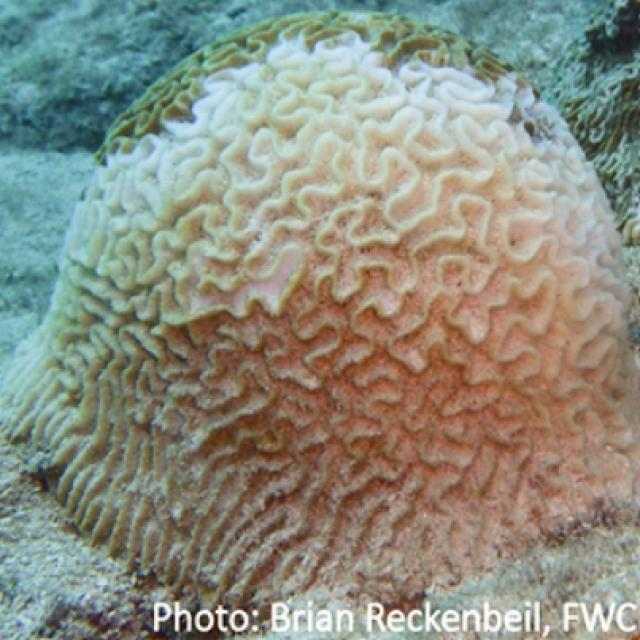Coral: (0, 10, 640, 611)
